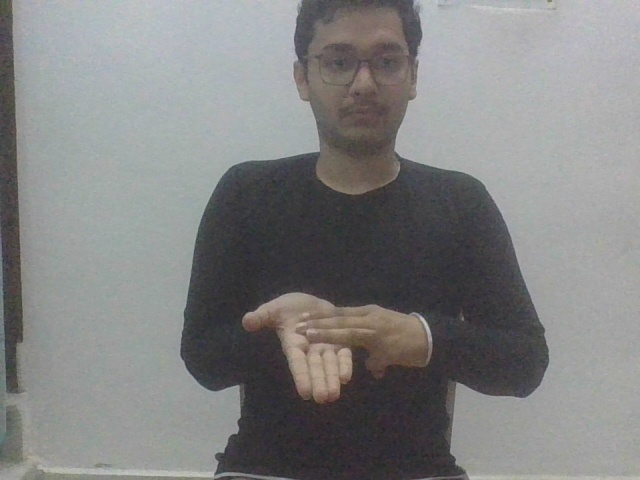M: (240, 290, 435, 408)
